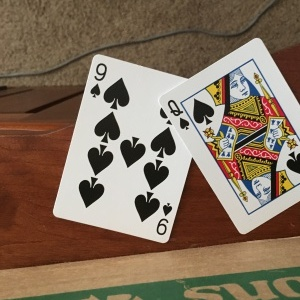card: (43, 54, 171, 246)
